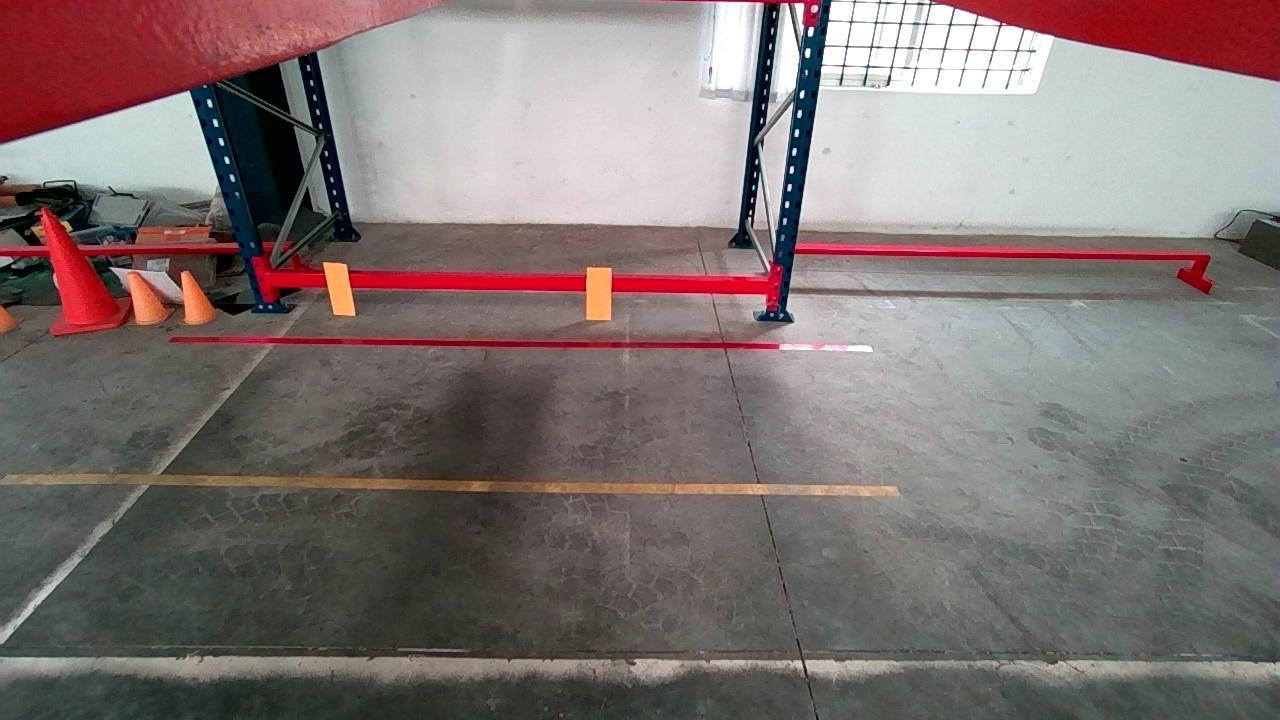h_rack: (268, 274, 770, 293)
orange_strip: (326, 260, 359, 314), (586, 262, 612, 316)
red_line: (166, 328, 878, 352)
yellow_line: (0, 473, 902, 494)
